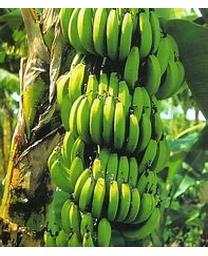banana: (45, 11, 186, 240)
